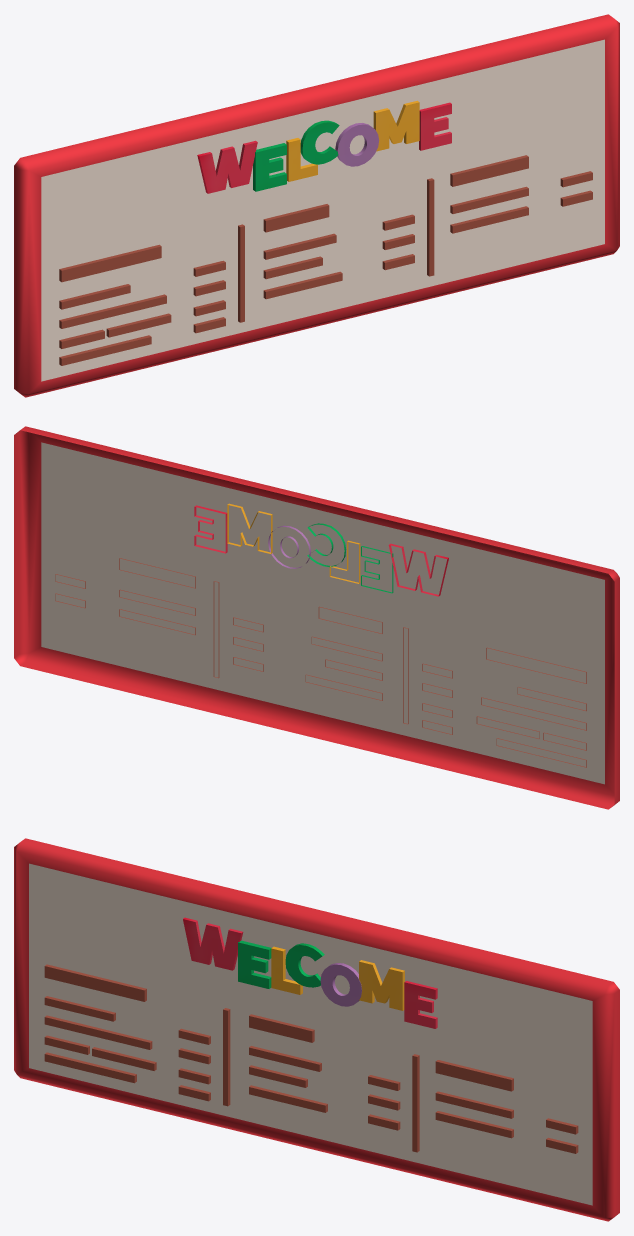
The model's file is Decor_treotuong_03.fbx.
3 views of the same model, one above another, from view 1: azimuth 30°, elevation 25°; view 2: azimuth 150°, elevation 25°; view 3: azimuth 330°, elevation 25° (orthographic).
Parts seen in each view (by area): view 1: Decor_treotuong_03; view 2: Decor_treotuong_03; view 3: Decor_treotuong_03.
Part boxes in pixels (x1=…): Decor_treotuong_03: x1=14, y1=14, x2=619, y2=397; Decor_treotuong_03: x1=14, y1=426, x2=619, y2=809; Decor_treotuong_03: x1=14, y1=838, x2=619, y2=1221.
Bounding box in the file's own units: 355 × 133 × 11.91.
